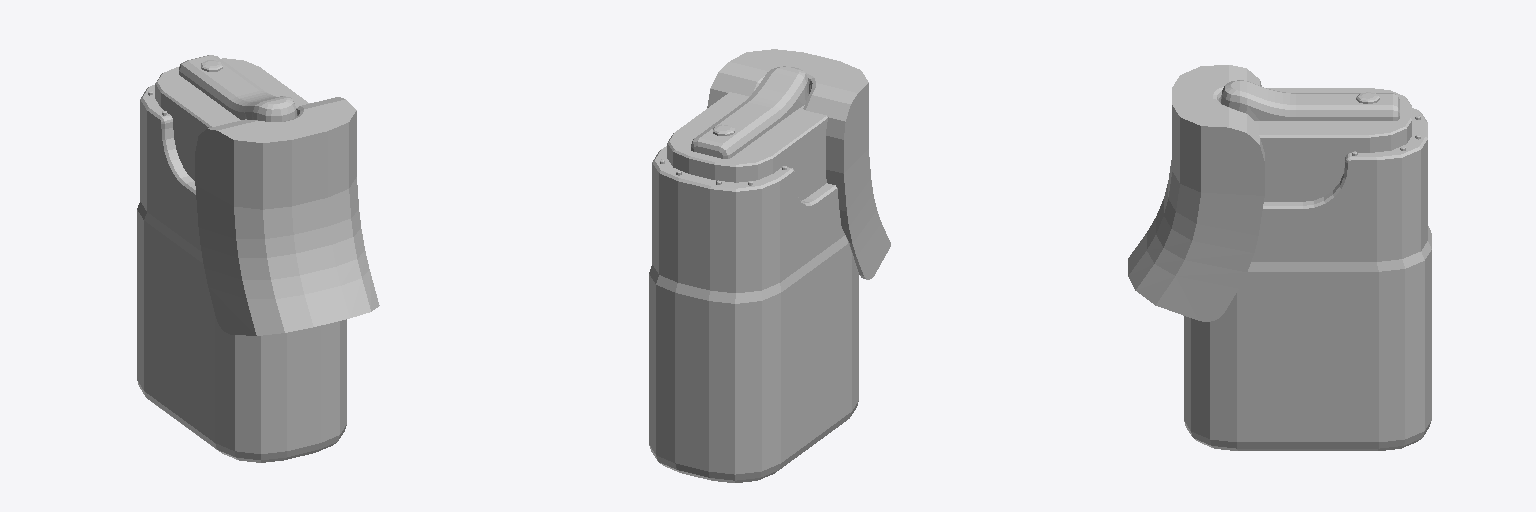
Rendered from Pillholder.obj.
The picture shows the model from 3 angles: view 1: azimuth 30°, elevation 25°; view 2: azimuth 150°, elevation 25°; view 3: azimuth 270°, elevation 25°; orthographic projection.
Visible parts, largest first — view 1: top.col, bottom.col; view 2: top.col, bottom.col; view 3: top.col, bottom.col.
Part boxes in pixels (left/top/right/bottom): top.col: left=140, top=55, right=379, bottom=335; bottom.col: left=137, top=202, right=346, bottom=462; top.col: left=652, top=49, right=890, bottom=292; bottom.col: left=649, top=235, right=858, bottom=482; top.col: left=1128, top=65, right=1427, bottom=321; bottom.col: left=1184, top=226, right=1431, bottom=450.
Size of the model in its own units: 1.21 by 2.88 by 2.33.